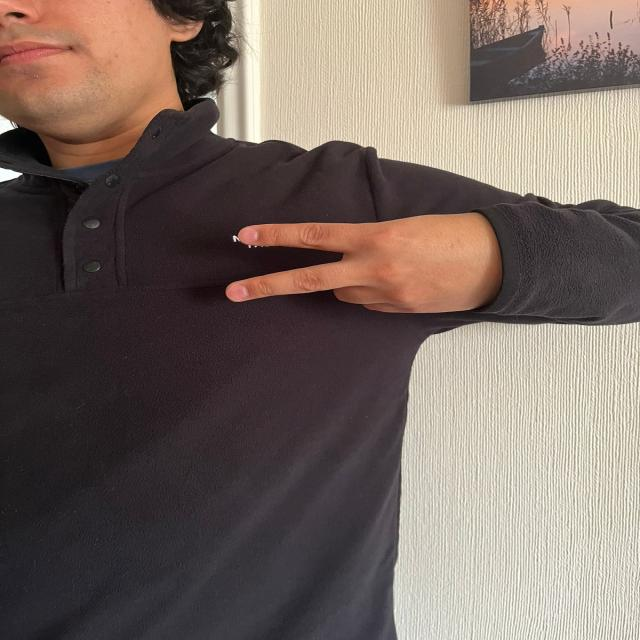H: (221, 213, 503, 322)
